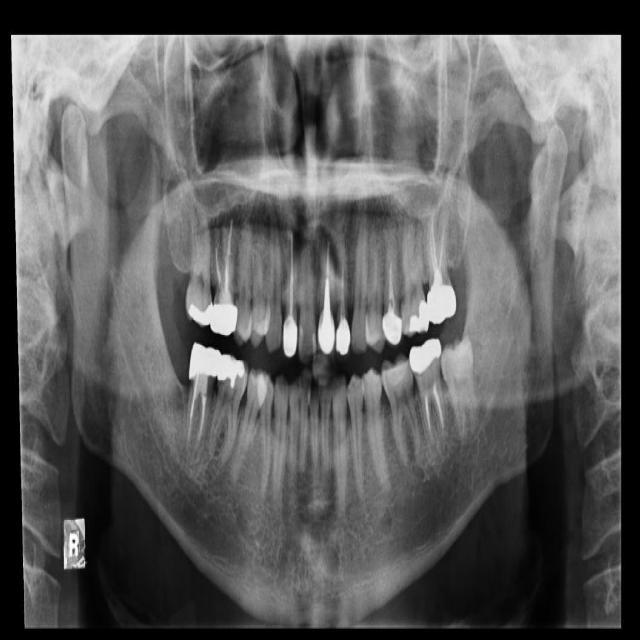52: (206, 351, 257, 401), (402, 335, 451, 384), (417, 279, 467, 327), (184, 340, 225, 387), (395, 290, 433, 338), (208, 295, 240, 338), (184, 283, 215, 327), (381, 300, 403, 346), (298, 314, 317, 362), (317, 313, 335, 359), (335, 318, 351, 360), (283, 312, 297, 357)
73: (416, 374, 450, 448), (424, 205, 452, 291), (213, 211, 237, 299), (319, 237, 335, 313), (285, 229, 299, 312), (337, 241, 350, 318), (586, 572, 606, 592)
BioHorizons Implant: (422, 204, 457, 324)
Biomet 3i Implant: (439, 335, 478, 433)
Blue Sky Bio Implant: (407, 337, 447, 449)
Caries: (182, 205, 213, 327)
Implant: (178, 340, 224, 452)
